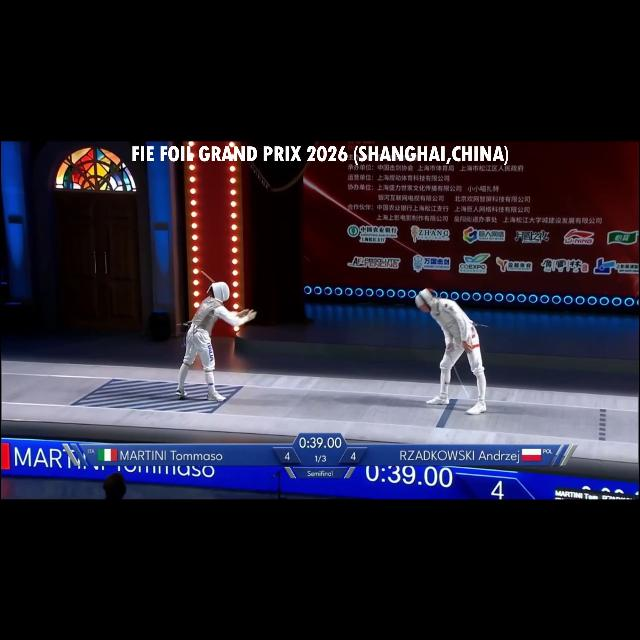blade: (443, 341, 473, 404)
